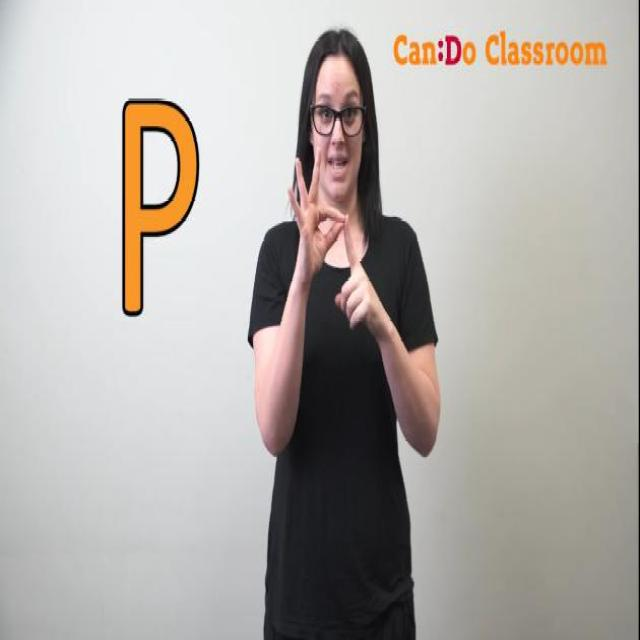P: (278, 146, 390, 336)
